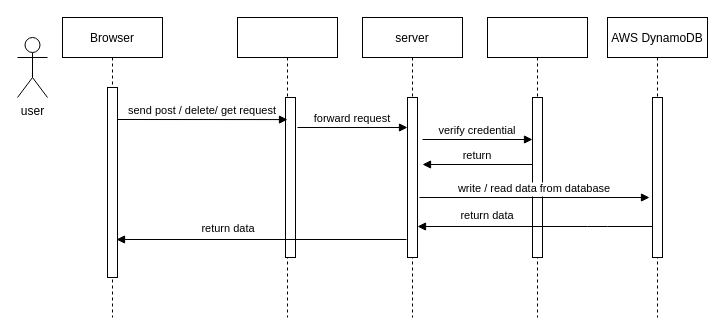
Image size: 725x335. Some labels were removed from this diagram. The shapes that lost their labels are listed below. From the top down, each one's centre as x and y in pixels, then its label:
At (287,167): "API Gateway".
At (537,167): "AWS Cognito".
